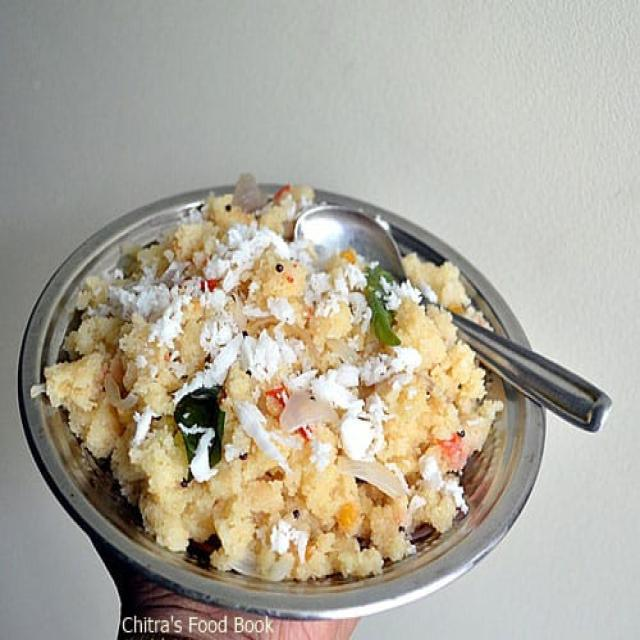upma: (32, 164, 492, 598)
